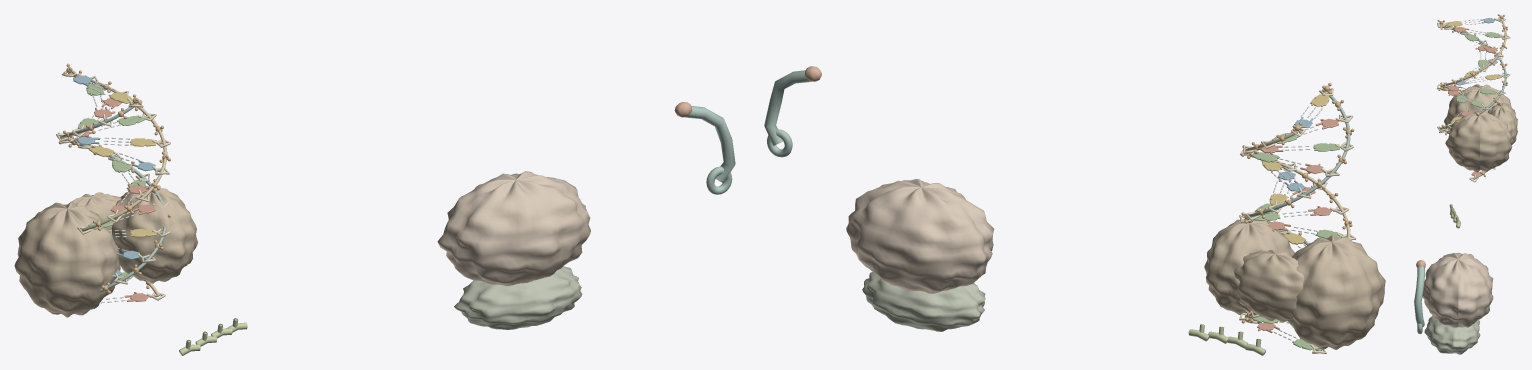
Rendered from gene_expression_scene.glb.
The picture shows the model from 3 angles, left to right: view 1: azimuth 30°, elevation 25°; view 2: azimuth 150°, elevation 25°; view 3: azimuth 270°, elevation 25°; orthographic projection. The views are drawn at different scales.
Parts seen in each view (by area): view 1: rna_polymerase, ribosome_large_subunit, ribosome_small_subunit, trna_folded_backbone, rna_polymerase_bridge; view 2: ribosome_large_subunit, rna_polymerase, ribosome_small_subunit, rna_polymerase_bridge, trna_folded_backbone; view 3: ribosome_large_subunit, rna_polymerase, ribosome_small_subunit, rna_polymerase_bridge, trna_folded_backbone.
Part boxes in pixels (<box>): rna_polymerase: <box>14,186,197,317</box>; ribosome_large_subunit: <box>437,171,590,285</box>; ribosome_small_subunit: <box>454,266,582,329</box>; trna_folded_backbone: <box>685,106,735,182</box>; rna_polymerase_bridge: <box>71,192,120,232</box>; ribosome_large_subunit: <box>846,179,994,293</box>; rna_polymerase: <box>1204,219,1385,349</box>; ribosome_small_subunit: <box>862,272,985,331</box>; rna_polymerase_bridge: <box>1231,250,1304,322</box>; trna_folded_backbone: <box>764,70,811,145</box>; ribosome_large_subunit: <box>1422,252,1493,327</box>; rna_polymerase: <box>1444,84,1514,172</box>; ribosome_small_subunit: <box>1424,316,1480,354</box>; rna_polymerase_bridge: <box>1488,103,1517,145</box>; trna_folded_backbone: <box>1414,266,1424,326</box>.
Size of the model in its own units: 11.92 by 5.65 by 2.58.
